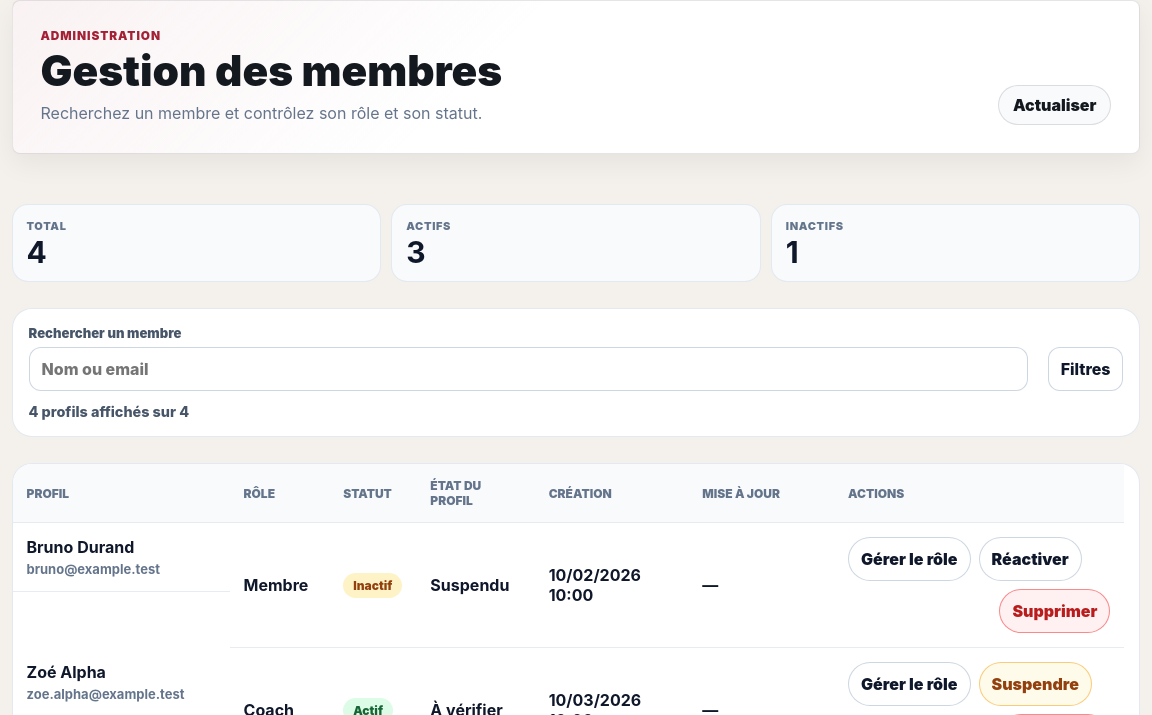
recherche et filtres des membres › recherche par nom sans tenir compte de la casse, des accents ou des espaces superflus
Type "  ZOE    alpha  " into the search field labelled "Rechercher un membre".
click(528, 370); type("  ZOE    alpha  ")  # box [28,348,1028,392]
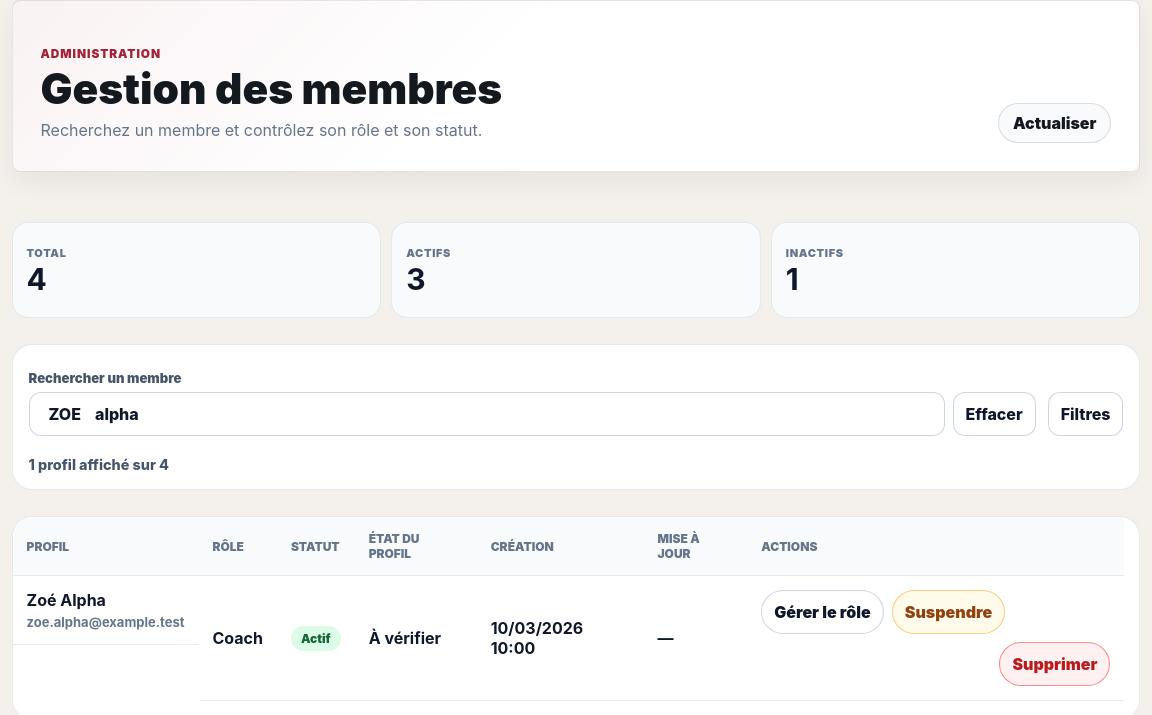
Expected: the text "Zoé Alpha" is shown, [26,590,106,610]
Expected: the text "1 profil affiché sur 4" is shown, [28,456,169,473]
